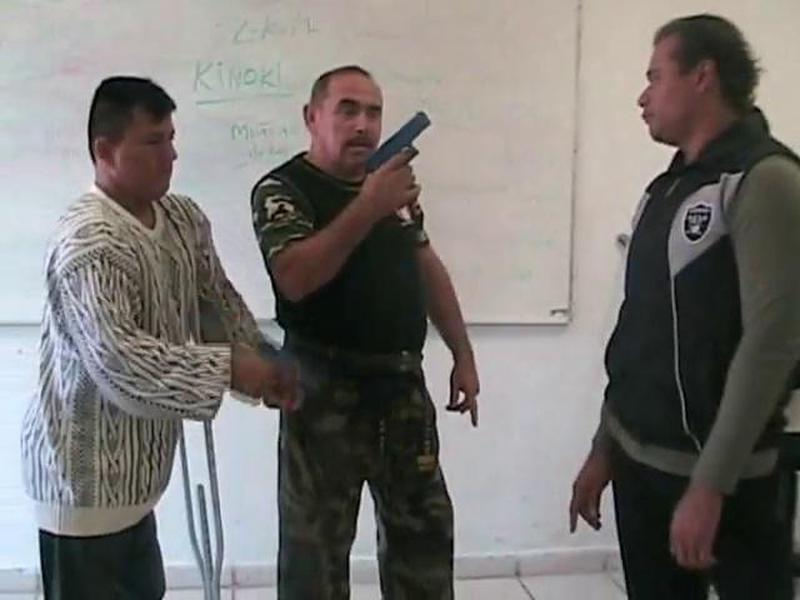Pistola: (354, 97, 447, 234)
